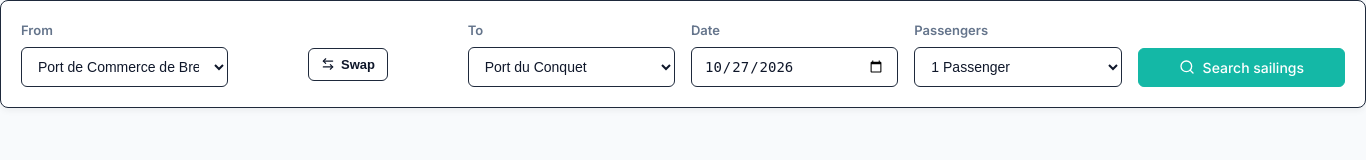
Phase D: Sailing Search & Announcements › swaps origin and destination when Swap button is clicked
Expected: the dropdown labelled "From" shows "Port de Commerce de Brest", [21,46,228,86]
Click the button "Swap" at {"x": 348, "y": 64}, box [308,48,388,80]
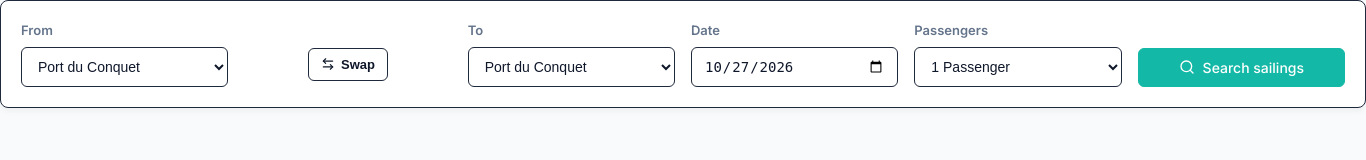
Expected: the dropdown labelled "From" shows "Port du Conquet", [21,46,228,86]
